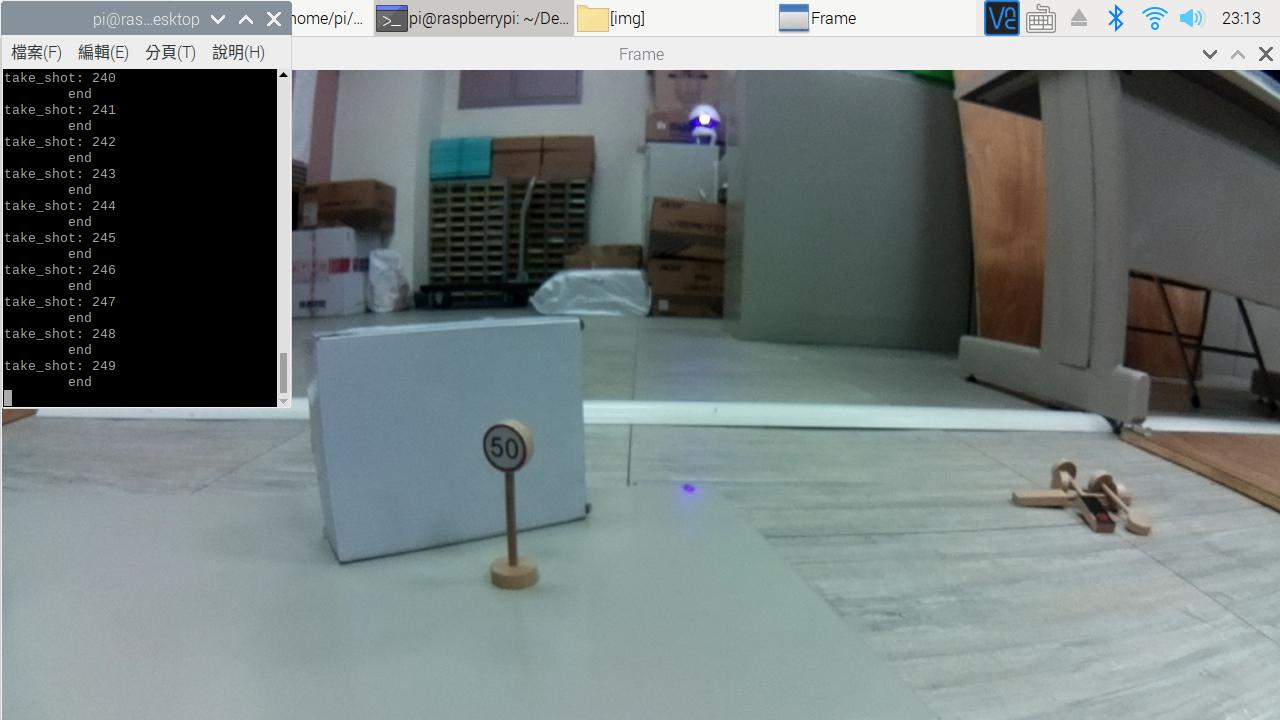Speed50: (470, 416, 547, 487)
